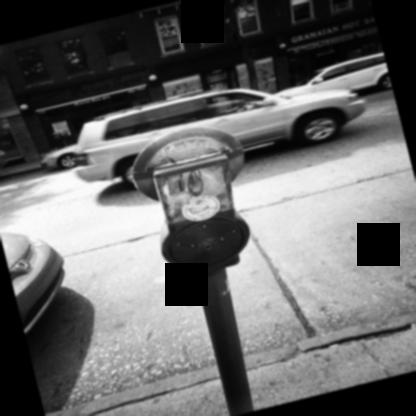handbag: (0, 149, 7, 156)
